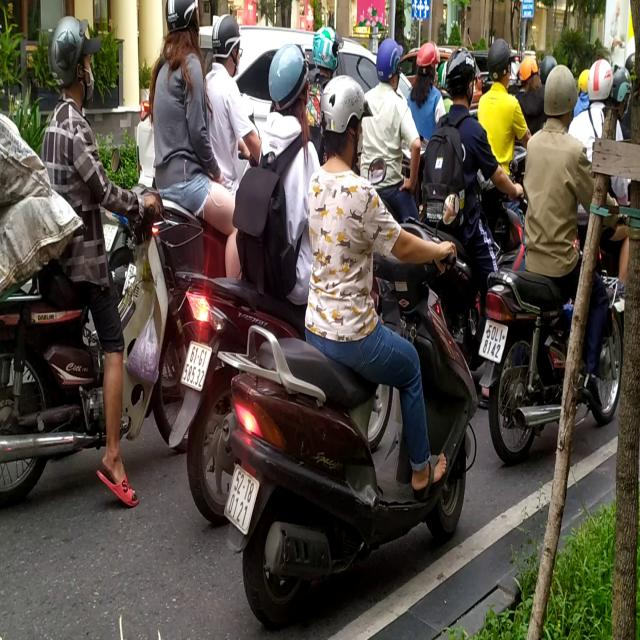bien_trang: (217, 462, 265, 540), (482, 320, 514, 378), (178, 336, 208, 386)
